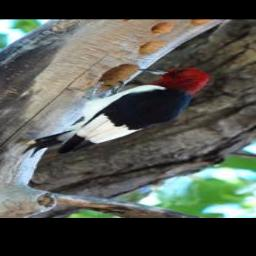Woodpecker: (15, 66, 207, 157)
